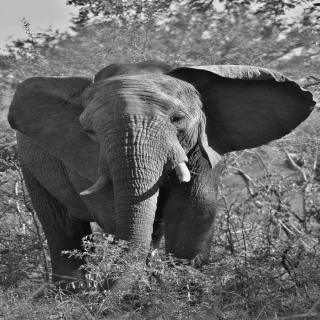Elephant: (2, 58, 320, 298)
